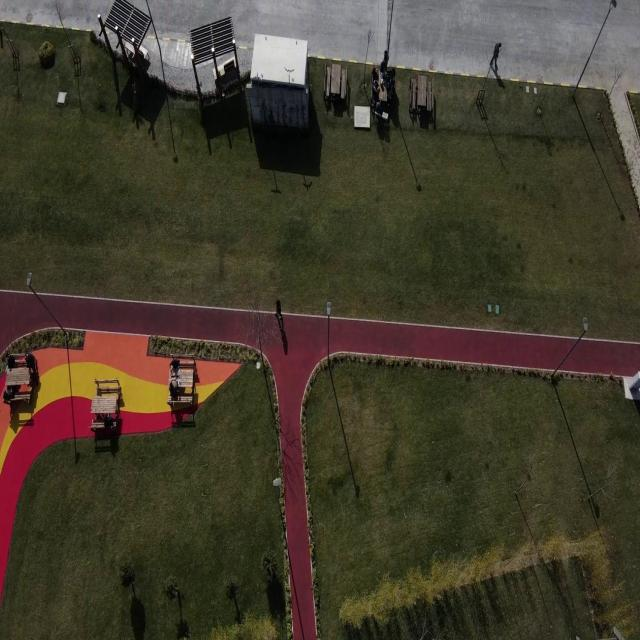p3rson: (24, 350, 38, 387), (490, 42, 502, 70), (5, 350, 16, 370), (168, 381, 180, 398), (274, 298, 283, 320), (3, 386, 16, 401), (103, 412, 114, 427), (169, 357, 180, 370), (372, 79, 380, 94), (371, 66, 379, 80), (384, 48, 389, 70), (379, 58, 386, 72), (390, 76, 395, 86)
